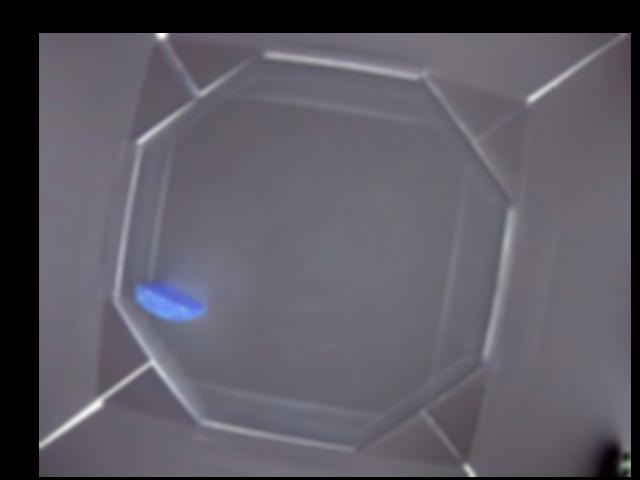Potato: (133, 279, 204, 323)
